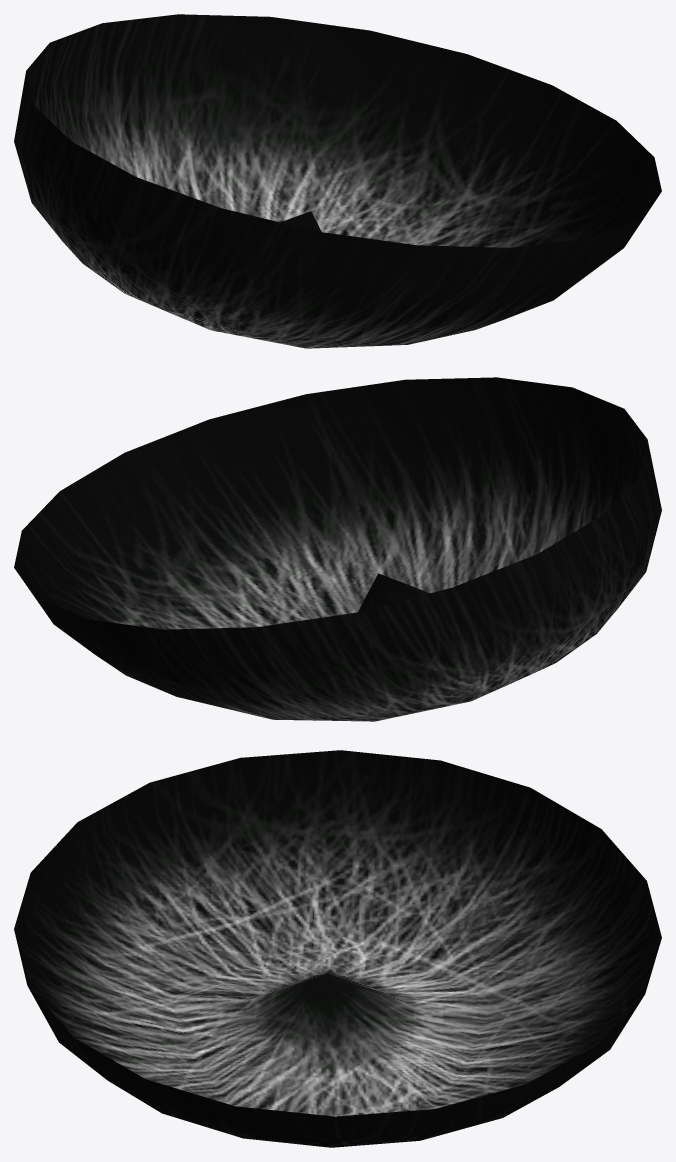
The model's file is MIRKWOOD_SB_997.fbx.
The picture shows the model from 3 angles, top to bottom: view 1: azimuth 30°, elevation 25°; view 2: azimuth 150°, elevation 25°; view 3: azimuth 270°, elevation 25°; orthographic projection. The views are drawn at different scales.
Visible parts, largest first — view 1: MIRKWOOD_SB_997; view 2: MIRKWOOD_SB_997; view 3: MIRKWOOD_SB_997.
Boxes of the visible parts, x1=… form: MIRKWOOD_SB_997: x1=14, y1=14, x2=661, y2=348; MIRKWOOD_SB_997: x1=14, y1=377, x2=661, y2=721; MIRKWOOD_SB_997: x1=14, y1=750, x2=661, y2=1147.
Bounding box in the file's own units: 174163 × 66415 × 179783.
Materials: 1 (1 with a texture image).
